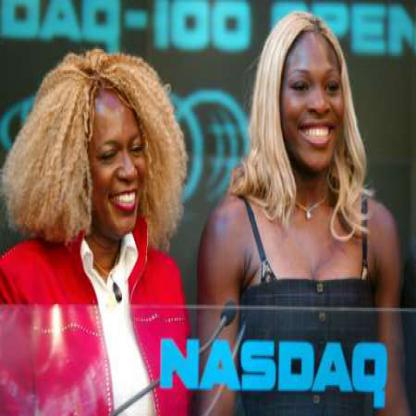face: (79, 67, 149, 242), (273, 17, 349, 177)
